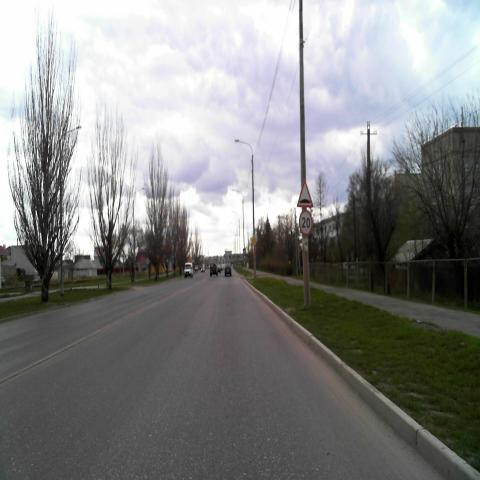1_17: (297, 180, 313, 207)
